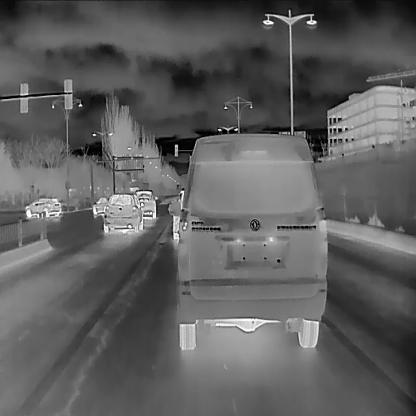car: (166, 131, 327, 350), (103, 192, 144, 232), (23, 196, 61, 218), (133, 188, 158, 218), (92, 196, 110, 214)
truck: (127, 182, 149, 194)
